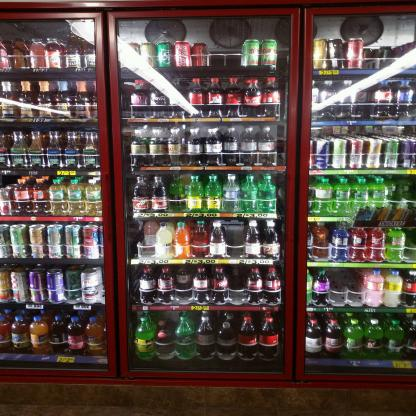Void: (332, 270, 358, 303), (209, 42, 240, 64), (229, 223, 242, 258), (230, 269, 243, 302), (362, 38, 375, 68), (139, 246, 153, 257)
